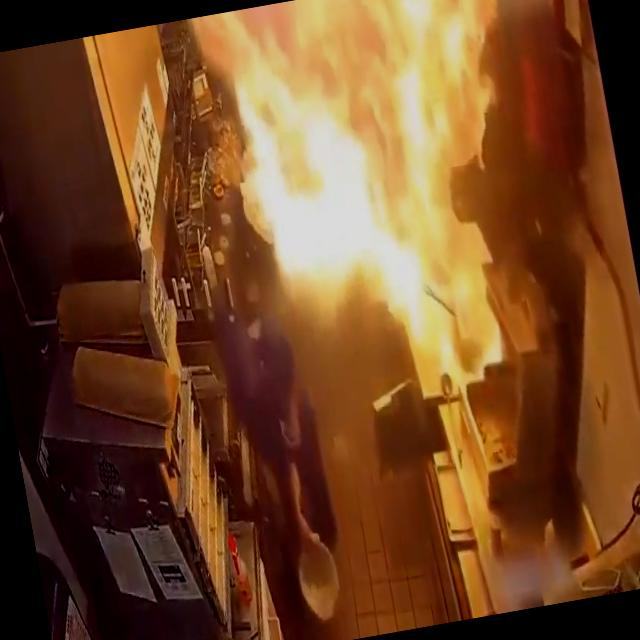fire: (185, 0, 588, 399)
